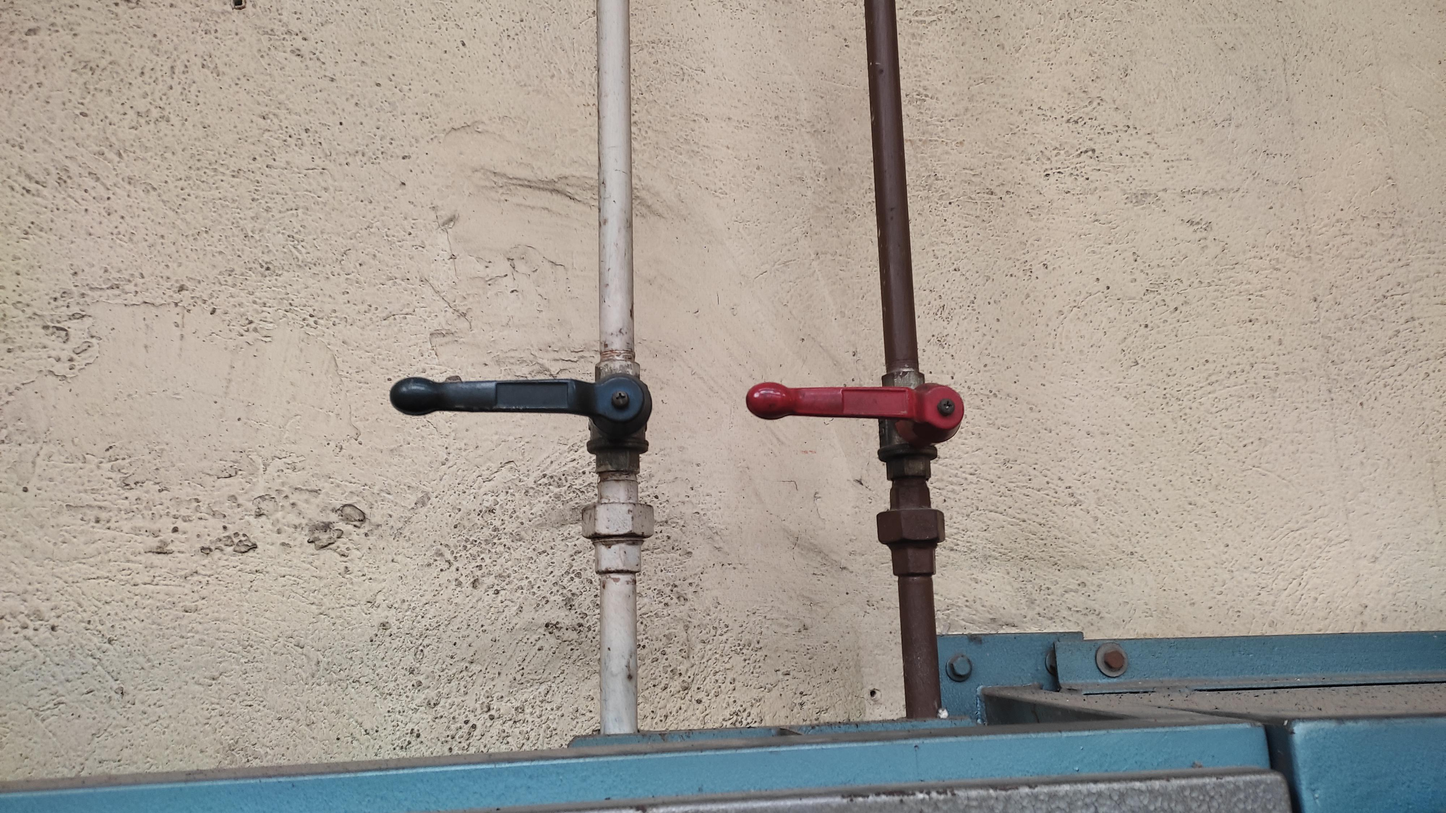closed valve: (384, 361, 669, 463), (740, 368, 976, 468)
